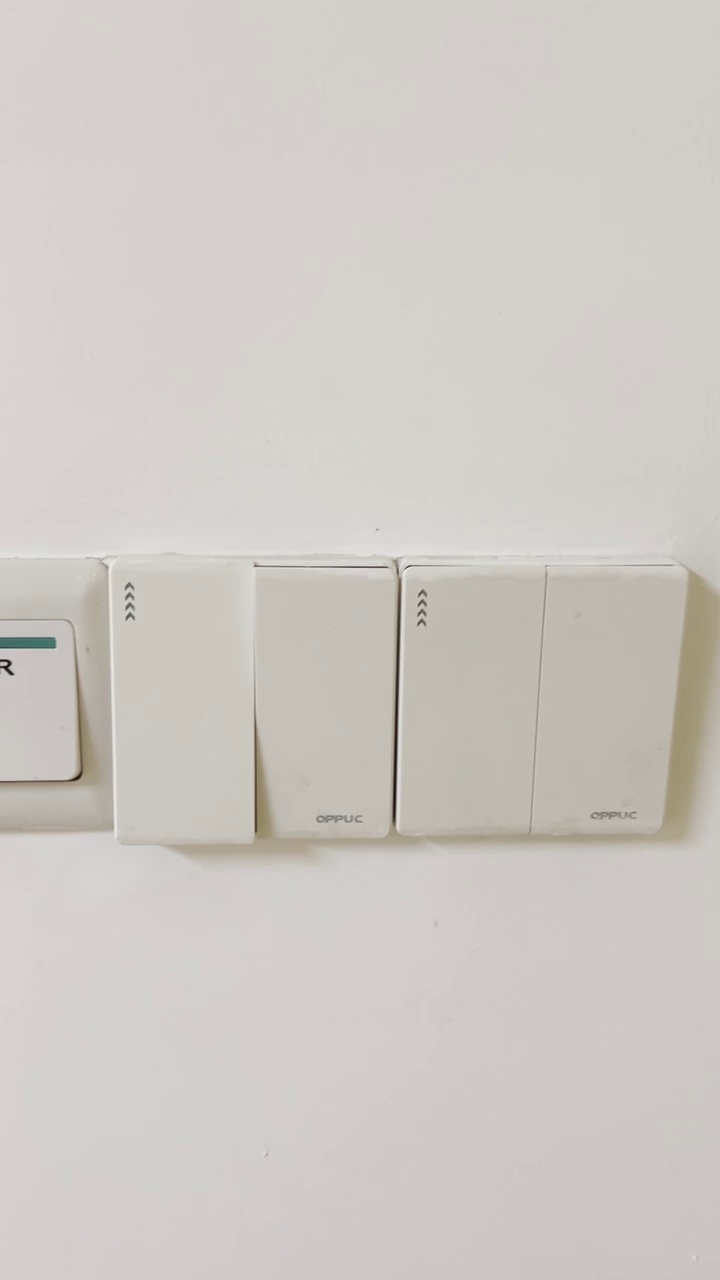button1: (539, 567, 677, 834), (116, 567, 251, 839), (402, 569, 538, 830), (258, 574, 389, 834)
